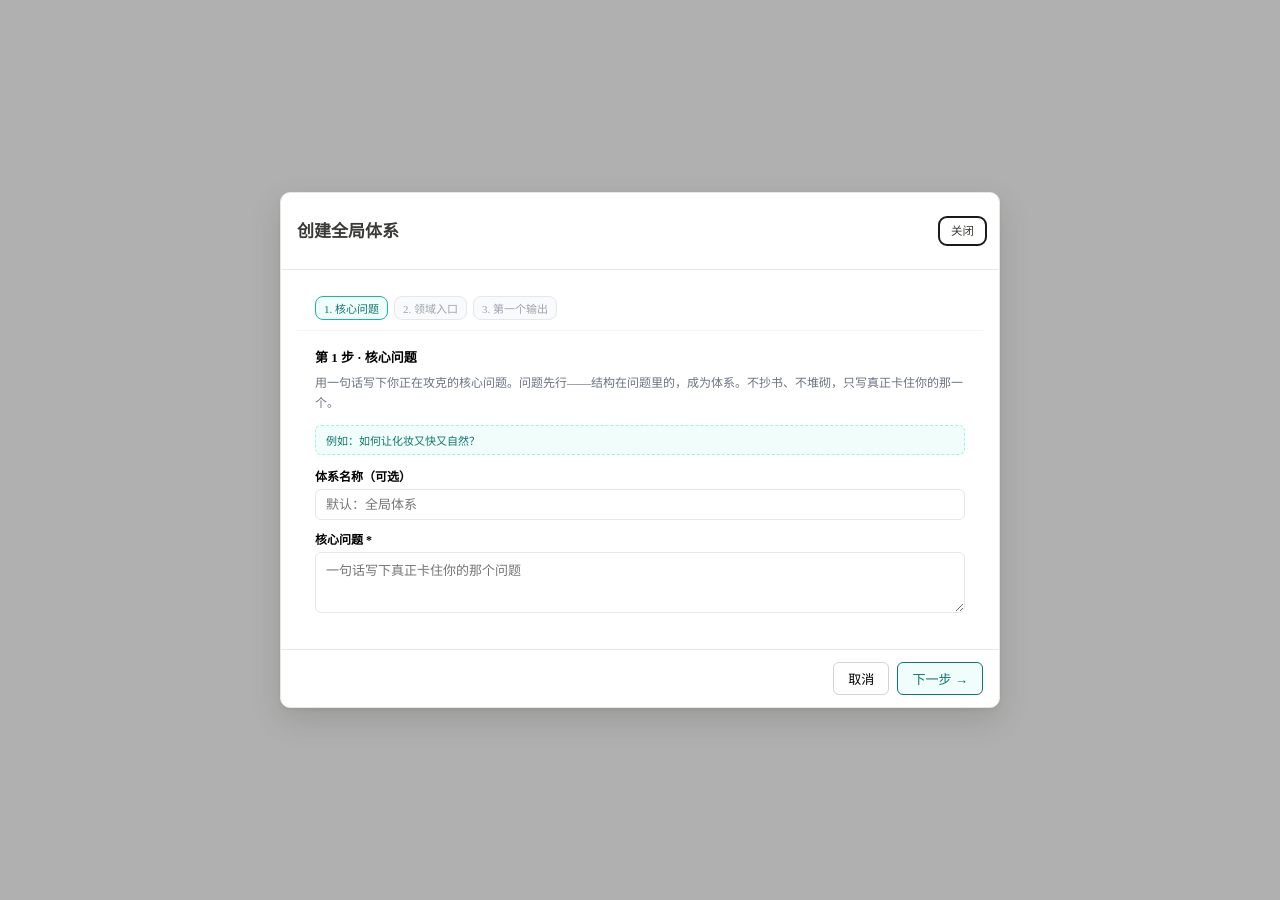
KnowledgeSystemWizard 三步校验 › 每步显示「例如」示例行（不写入输入框）
Expected: the dialog with test id "knowledge-wizard" is shown, top-left (280, 192), bottom-right (1000, 708)
Expected: the text with test id "wizard-example-1" shows "化妆又快又自然", top-left (326, 435), bottom-right (480, 447)
Note: 填核心问题以允许前进到第 2 步；但例不会被预填到输入框
In the text box with test id "wizard-core-question": {"x": 640, "y": 582} top-left (315, 552), bottom-right (965, 613), type "如何练好化妆"
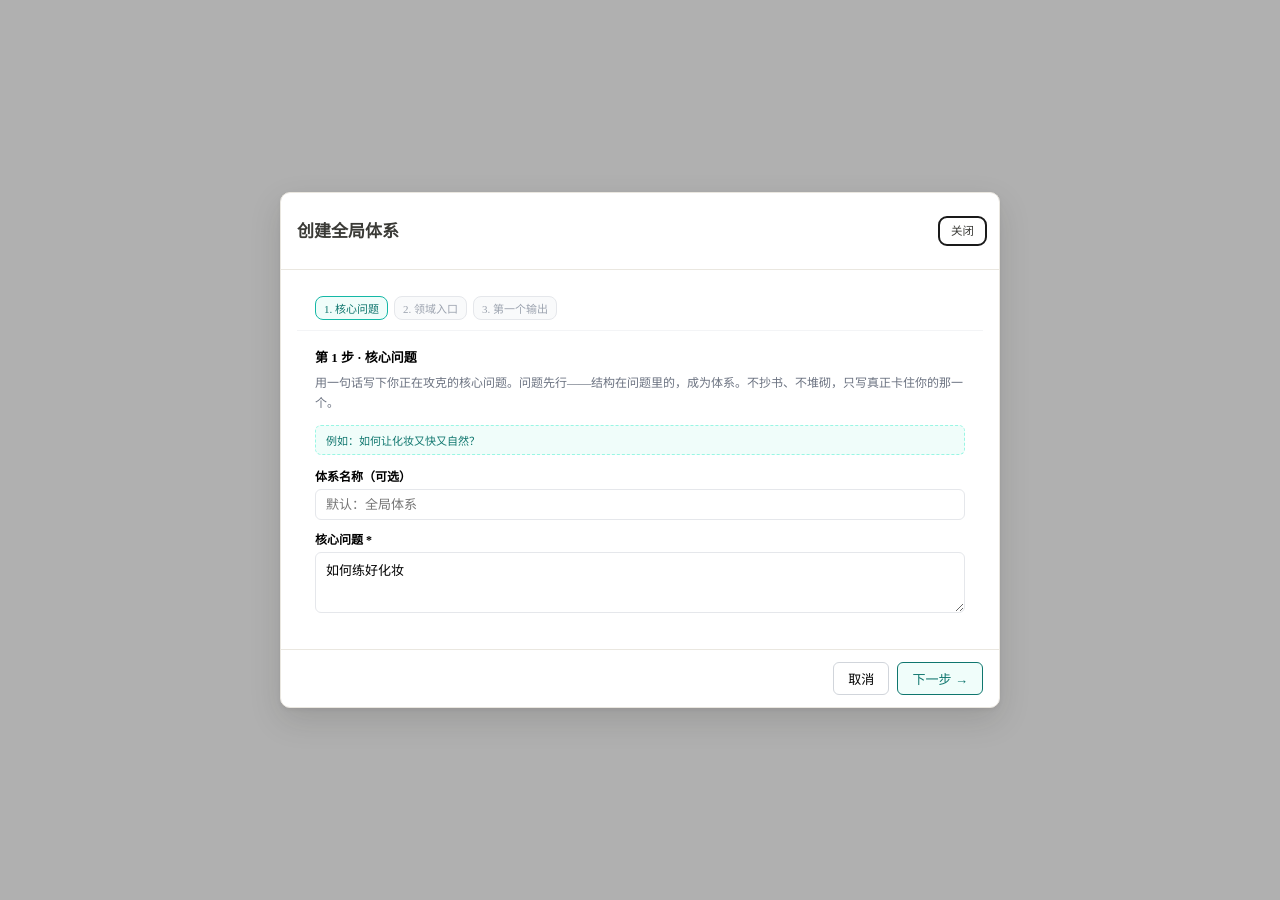
Click the button with test id "wizard-next": {"x": 940, "y": 678} top-left (897, 662), bottom-right (983, 695)
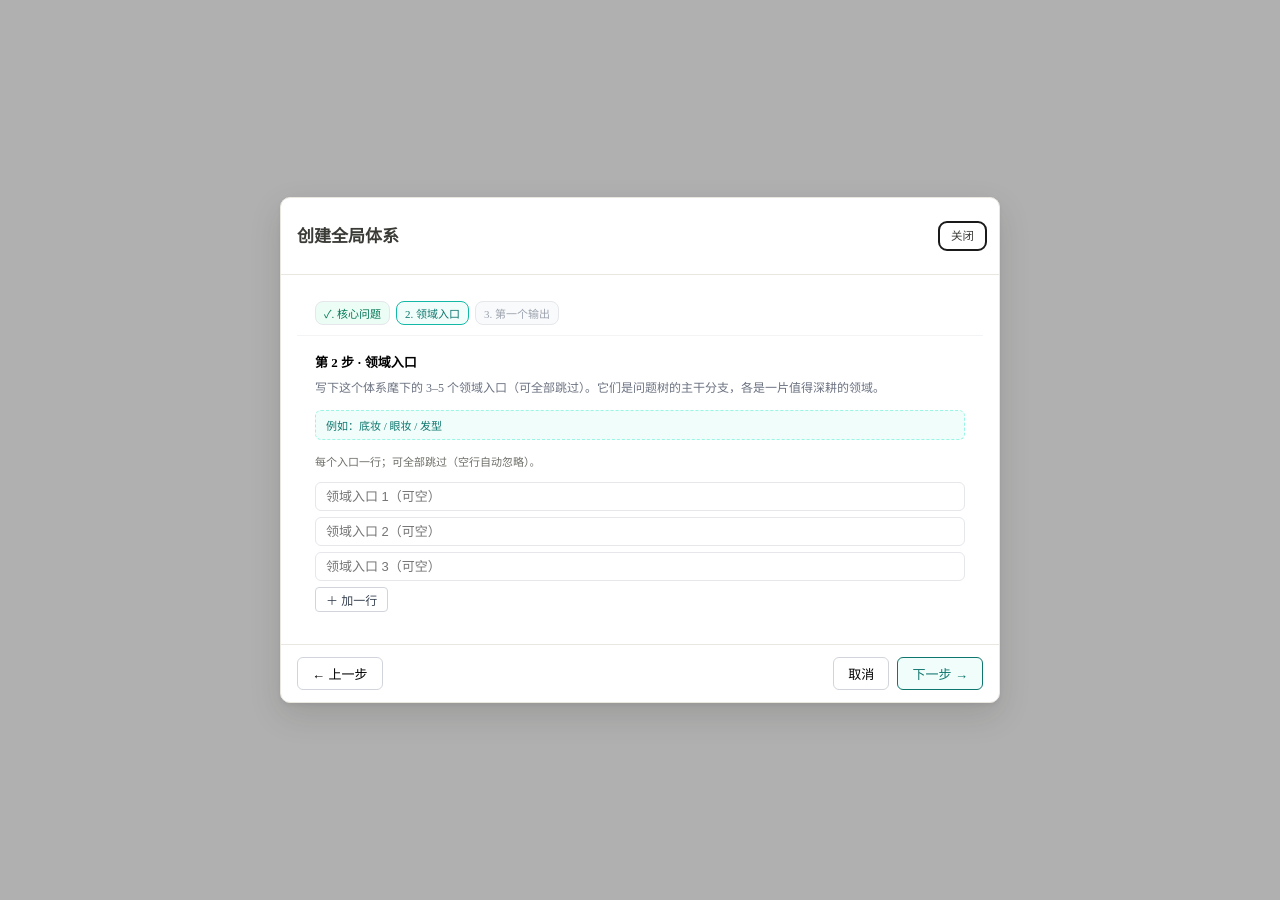
Result: the text "例如：底妆 / 眼妆 / 发型" is shown at top-left (315, 410), bottom-right (965, 440)
Note: 第 3 步的示例行
Click the button with test id "wizard-next": {"x": 940, "y": 674} top-left (897, 657), bottom-right (983, 690)
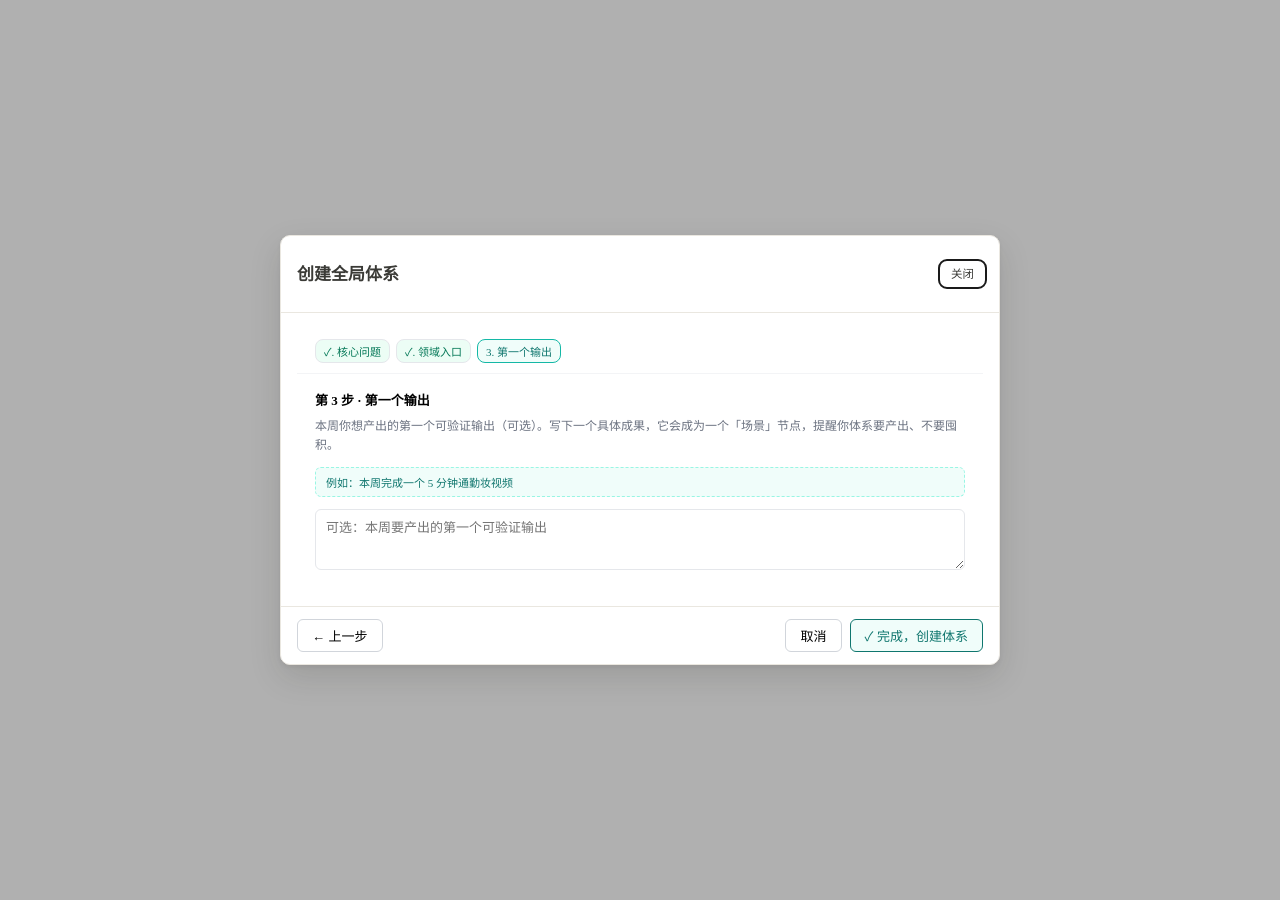
Result: the text "例如：本周完成一个 5 分钟通勤妆视频" is shown at top-left (315, 467), bottom-right (965, 497)
